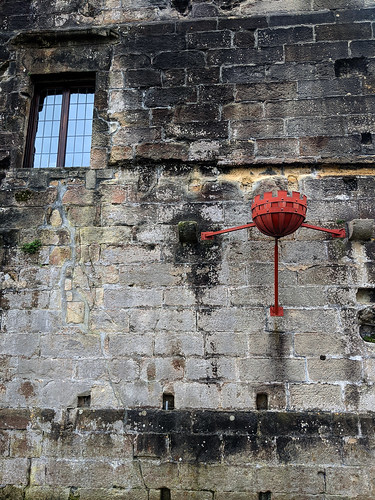wall: (1, 1, 369, 496)
window: (26, 69, 101, 169)
